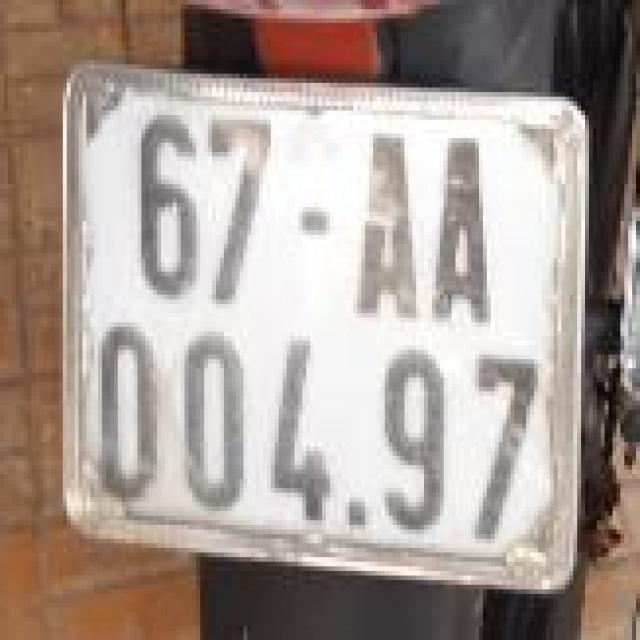0: (173, 320, 247, 527), (88, 315, 159, 518)
4: (275, 320, 334, 532)
6: (124, 104, 202, 310)
7: (465, 329, 544, 550), (204, 97, 279, 313)
9: (379, 336, 453, 543)
A: (357, 113, 420, 320), (434, 120, 497, 327)
